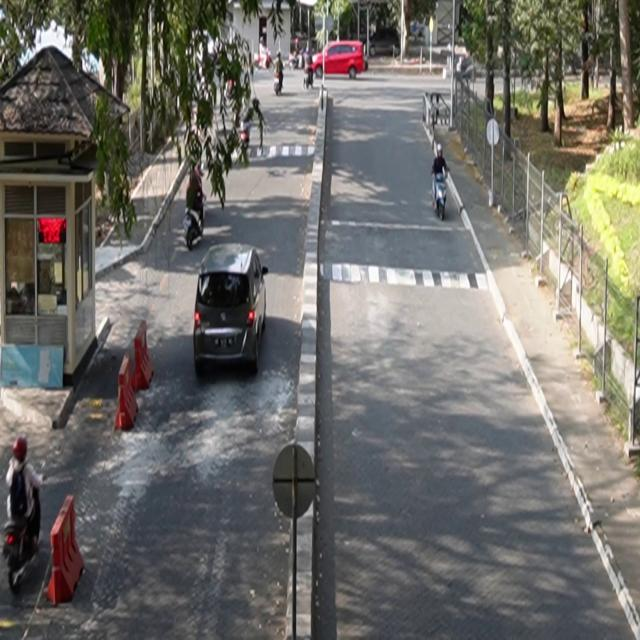car: (194, 243, 269, 376), (311, 42, 368, 81)
